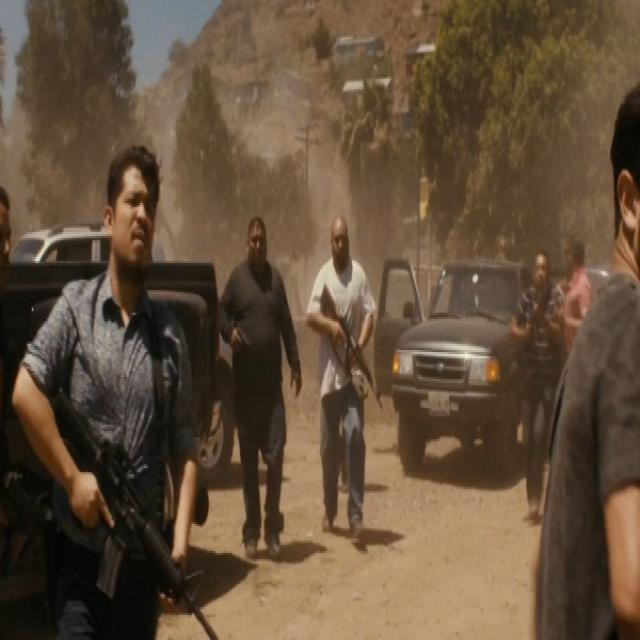rifle: (50, 384, 225, 640), (320, 284, 386, 414)
